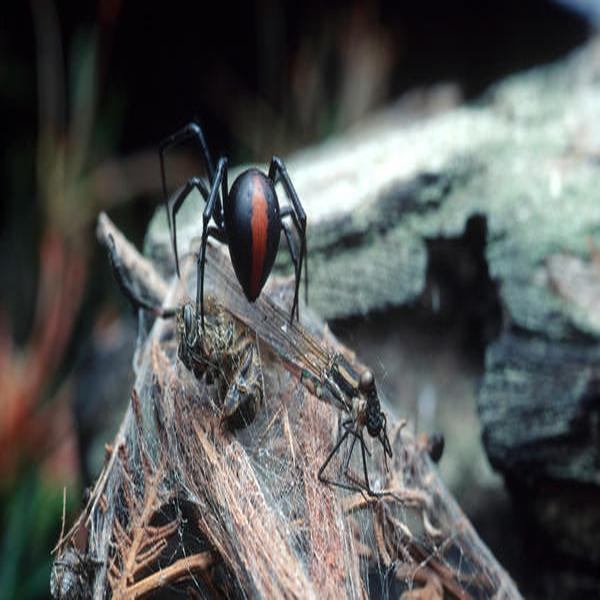Redback Spider: (154, 118, 311, 331)
